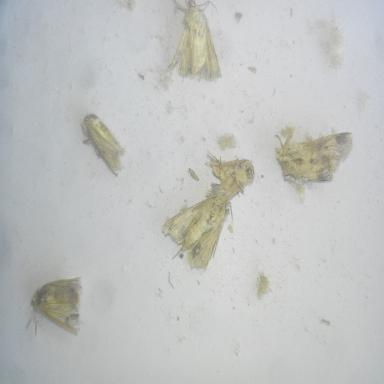abw: (160, 187, 236, 277), (273, 120, 356, 195), (163, 0, 227, 86), (22, 275, 84, 345), (202, 144, 258, 215), (79, 106, 129, 180)
